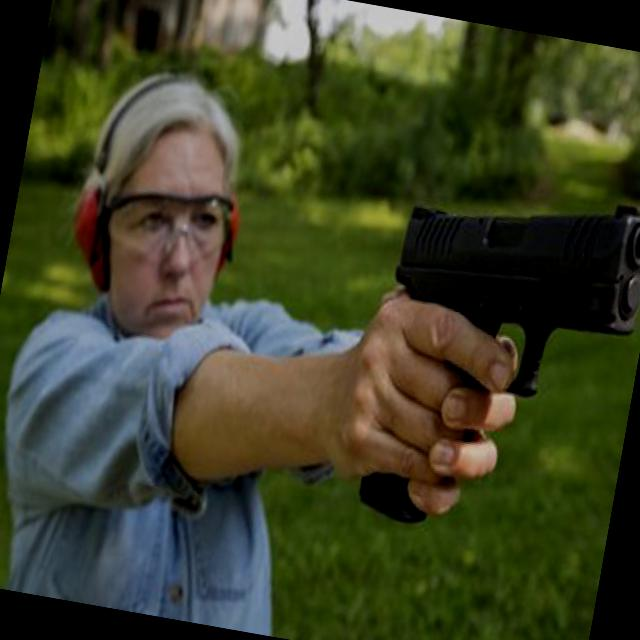handgun: (346, 165, 639, 545)
